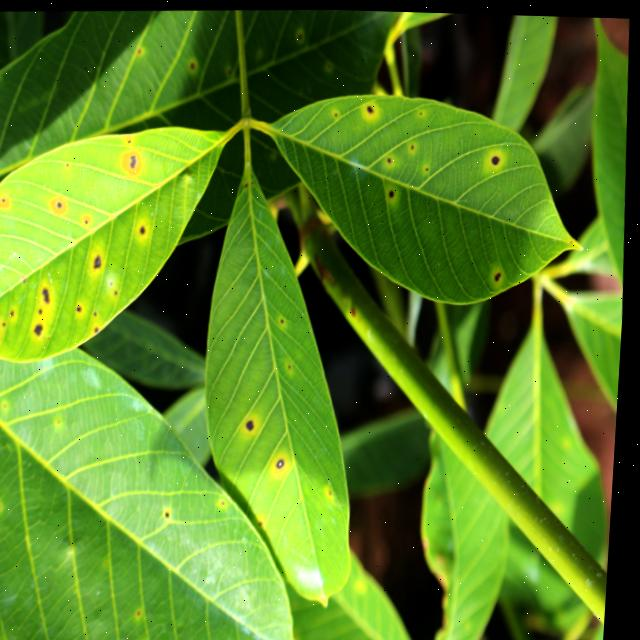Colletotrichum: (281, 457, 290, 467), (251, 418, 258, 429), (493, 152, 500, 162)
